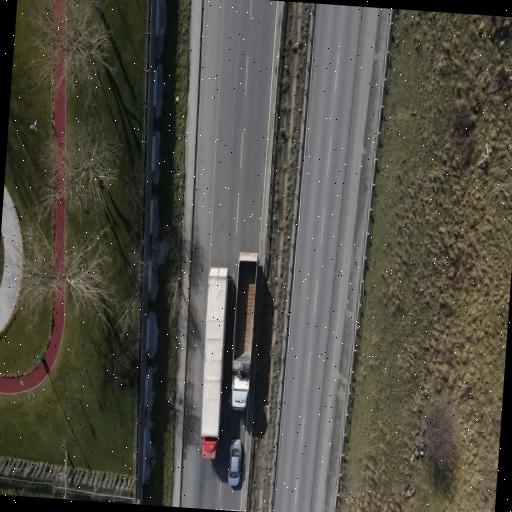car: (227, 439, 240, 485)
truck: (201, 267, 227, 457), (231, 252, 257, 408)
